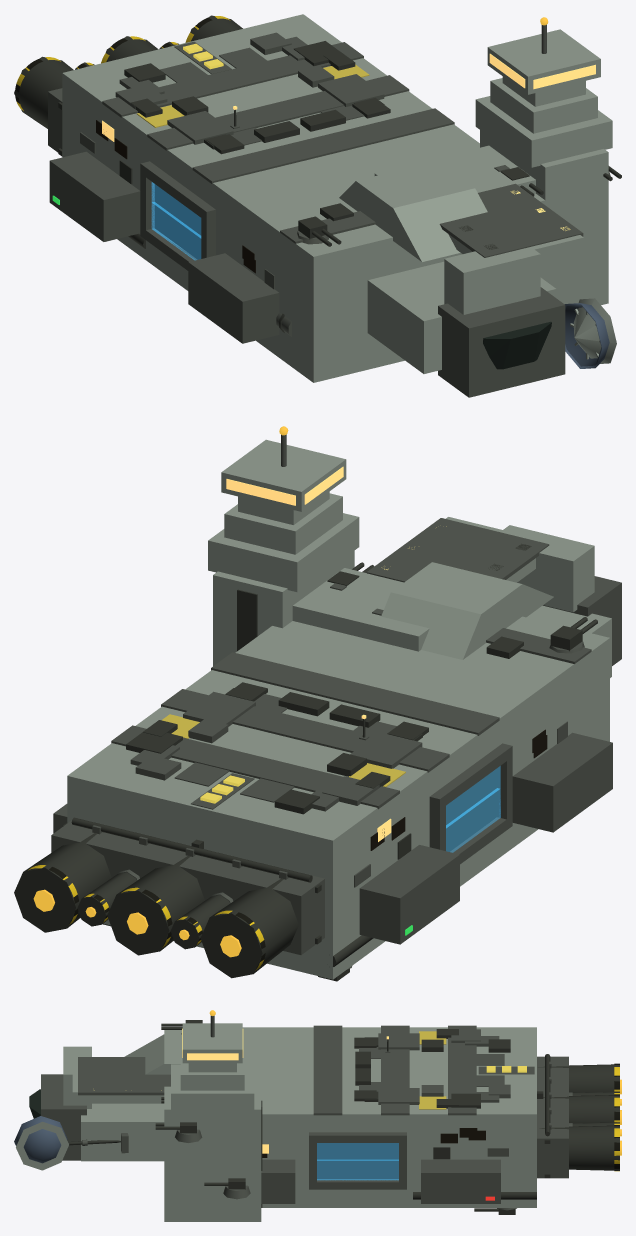
The model's file is capital-m.glb.
3 views of the same model, one above another, from view 1: azimuth 30°, elevation 25°; view 2: azimuth 150°, elevation 25°; view 3: azimuth 270°, elevation 25° (orthographic). The views are drawn at different scales.
Parts seen in each view (by area): view 1: hullMain, outriggerPylon, hullNoseTip, canopyFairing, hullNose, sidePod1L, sidePod0L, towerBridgeRail, hullPanelLine0, towerBridgeStep, controlTerrace0, observationGallery (+31 smaller); view 2: hullMain, engineHousing (×5), canopyFairing, engineBayExtension, sidePod0L, sidePod1L, towerBridgeRail, hullPanelLine0, controlTerrace0, towerBridgeBlock, observationGallery, outriggerPylon (+27 smaller); view 3: hullMain, outriggerPylon, engineHousing (×3), hullNose, sidePod1R, engineBayExtension, towerBridgeRail, dockingChamberStarboard, hullPanelLine0, controlTerrace0, observationGallery, hullNoseTip (+28 smaller).
Boxes of the visible parts, x1=… form: hullMain: x1=62, y1=14, x2=545, y2=382; outriggerPylon: x1=480, y1=130, x2=608, y2=305; hullNoseTip: x1=438, y1=287, x2=565, y2=397; canopyFairing: x1=339, y1=161, x2=487, y2=261; hullNose: x1=367, y1=261, x2=556, y2=373; sidePod1L: x1=49, y1=151, x2=140, y2=241; sidePod0L: x1=188, y1=253, x2=279, y2=343; towerBridgeRail: x1=439, y1=183, x2=583, y2=257; hullPanelLine0: x1=192, y1=108, x2=454, y2=184; towerBridgeStep: x1=444, y1=247, x2=540, y2=314; controlTerrace0: x1=475, y1=96, x2=612, y2=167; observationGallery: x1=487, y1=29, x2=600, y2=94; hullMain: x1=67, y1=616, x2=609, y2=979; engineHousing (×5): x1=14, y1=833, x2=298, y2=978; canopyFairing: x1=381, y1=562, x2=553, y2=659; engineBayExtension: x1=51, y1=820, x2=324, y2=954; sidePod0L: x1=512, y1=732, x2=612, y2=832; sidePod1L: x1=359, y1=845, x2=459, y2=944; towerBridgeRail: x1=366, y1=518, x2=549, y2=582; hullPanelLine0: x1=211, y1=652, x2=499, y2=735; controlTerrace0: x1=208, y1=513, x2=359, y2=592; towerBridgeBlock: x1=292, y1=568, x2=429, y2=651; observationGallery: x1=221, y1=439, x2=346, y2=511; outriggerPylon: x1=213, y1=551, x2=354, y2=665; hullMain: x1=164, y1=1027, x2=536, y2=1207; outriggerPylon: x1=164, y1=1086, x2=261, y2=1221; engineHousing (×3): x1=538, y1=1064, x2=619, y2=1170; hullNose: x1=81, y1=1103, x2=164, y2=1161; sidePod1R: x1=421, y1=1159, x2=500, y2=1203; engineBayExtension: x1=537, y1=1056, x2=568, y2=1178; towerBridgeRail: x1=78, y1=1057, x2=170, y2=1095; dockingChamberStarboard: x1=317, y1=1143, x2=398, y2=1179; hullPanelLine0: x1=313, y1=1025, x2=342, y2=1115; controlTerrace0: x1=171, y1=1064, x2=254, y2=1113; observationGallery: x1=182, y1=1023, x2=242, y2=1063; hullNoseTip: x1=41, y1=1074, x2=86, y2=1160.
Bounding box in the file's own units: 5.23 × 4.37 × 10.6.
